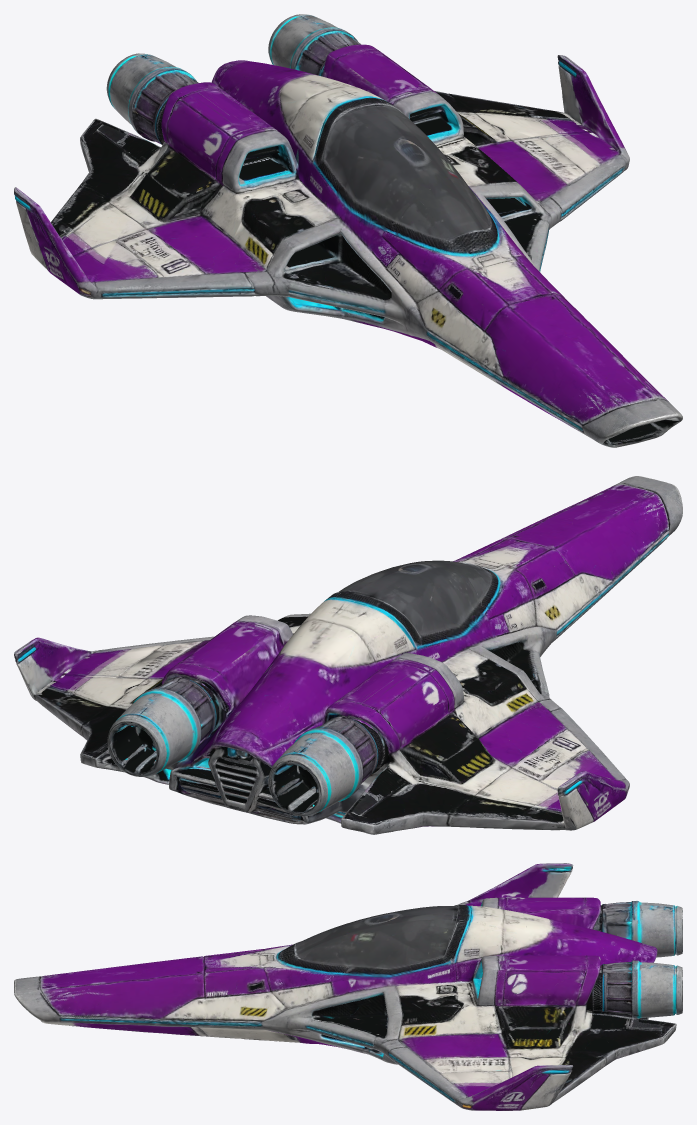
File: ship-01.glb
The picture shows the model from 3 angles, top to bottom: view 1: azimuth 30°, elevation 25°; view 2: azimuth 150°, elevation 25°; view 3: azimuth 270°, elevation 25°; orthographic projection. The views are drawn at different scales.
Visible parts, largest first — view 1: ship; view 2: ship; view 3: ship.
Part boxes in pixels (left/top/right/bottom): ship: left=14, top=14, right=682, bottom=447; ship: left=14, top=476, right=682, bottom=834; ship: left=14, top=863, right=682, bottom=1110.
Size of the model in its own units: 2.16 by 0.6156 by 3.
Materials: 1 (1 with a texture image).
